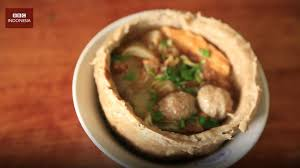bakso: (79, 17, 285, 168)
